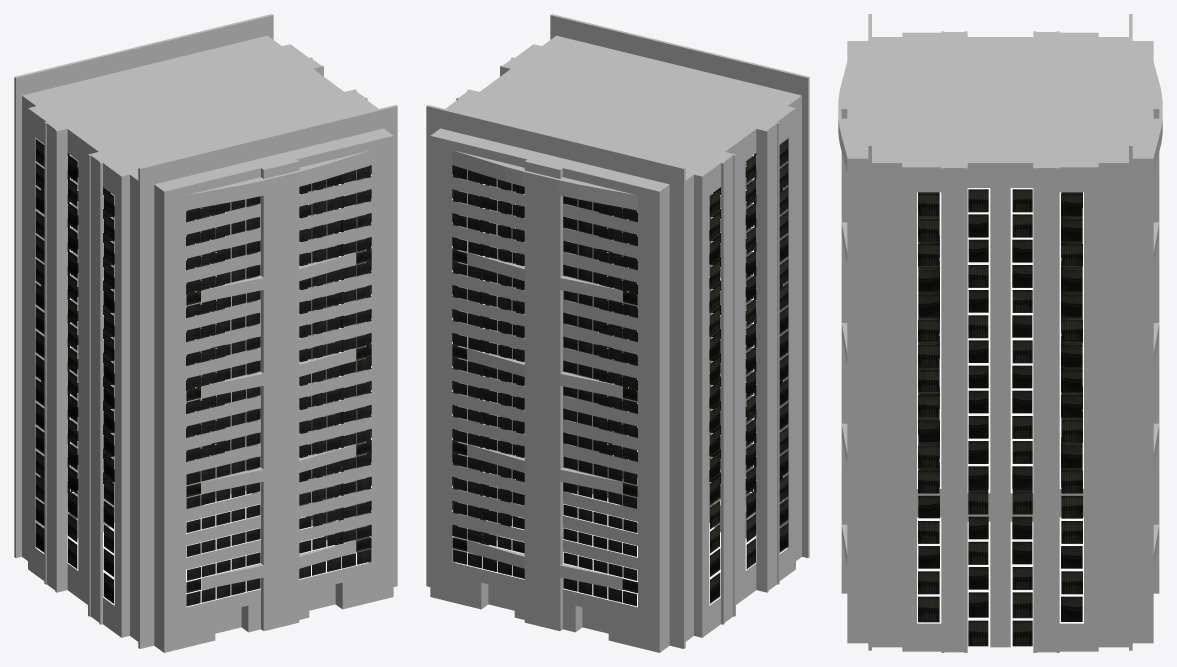
3 renders of one model, left to right at view 1: azimuth 30°, elevation 25°; view 2: azimuth 150°, elevation 25°; view 3: azimuth 270°, elevation 25°, orthographic. The views are drawn at different scales.
Visible parts, largest first — view 1: EC-003; view 2: EC-003; view 3: EC-003.
Part boxes in pixels (bbox=[...]): EC-003: bbox=[14, 14, 397, 652]; EC-003: bbox=[426, 14, 809, 652]; EC-003: bbox=[838, 14, 1162, 652].
Size of what is drawn, in the model's own units: 35 by 60.1 by 35.
